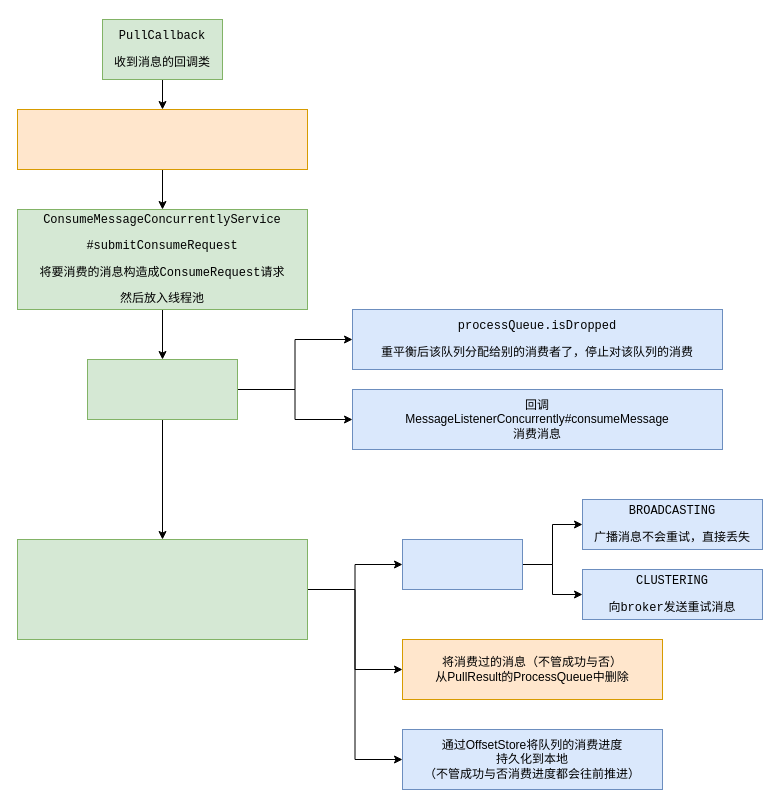
Image size: 780x807. Some labels were removed from this diagram. The centre of each missing label's shape, as x and y in pixels:
ConsumeMessageConcurrentlyService #processConsumeResult 处理消费结果: (x=162, y=589)
ConsumeRequest 消息消费的具体逻辑: (x=162, y=389)
不同消费模式 消费消息失败: (x=462, y=564)
将消息放入 PullResult的ProcessQueue中: (x=162, y=139)
